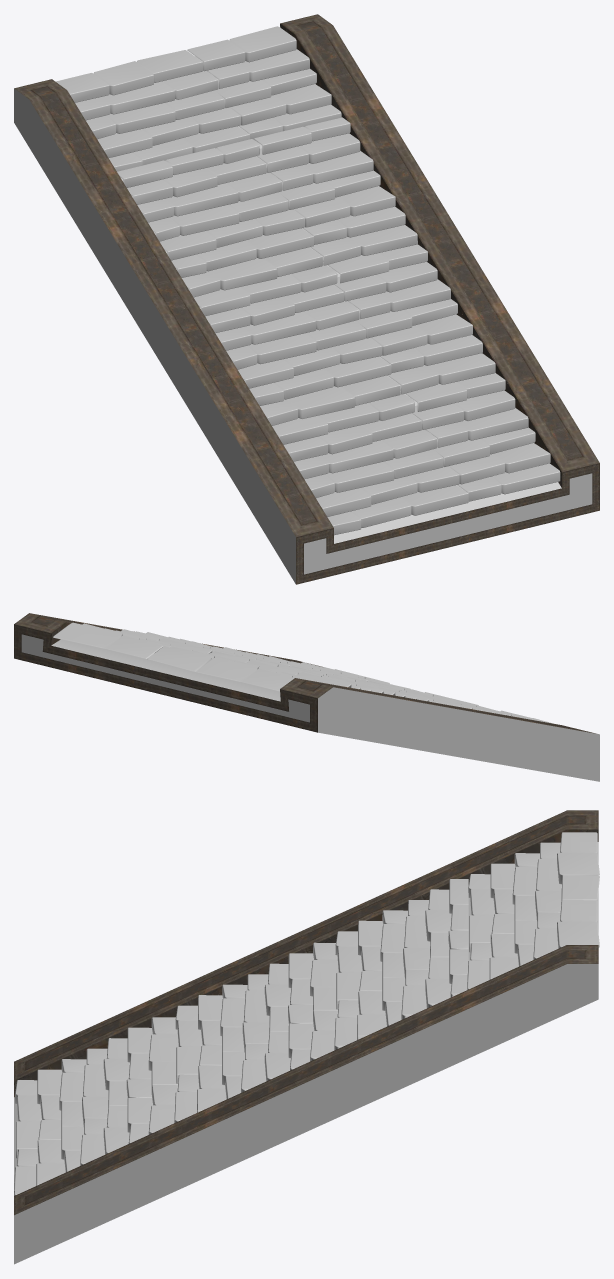
3 views of the same model, one above another, from view 1: azimuth 30°, elevation 25°; view 2: azimuth 150°, elevation 25°; view 3: azimuth 270°, elevation 25° (orthographic). The views are drawn at different scales.
Parts seen in each view (by area): view 1: SM_Dowdun_Int_Steps_01_LOD0; view 2: SM_Dowdun_Int_Steps_01_LOD0; view 3: SM_Dowdun_Int_Steps_01_LOD0.
Boxes of the visible parts, x1=… form: SM_Dowdun_Int_Steps_01_LOD0: x1=14, y1=14, x2=599, y2=584; SM_Dowdun_Int_Steps_01_LOD0: x1=14, y1=613, x2=599, y2=781; SM_Dowdun_Int_Steps_01_LOD0: x1=14, y1=810, x2=599, y2=1264.
Size of the model in its own units: 8 by 7.29 by 12.89.
